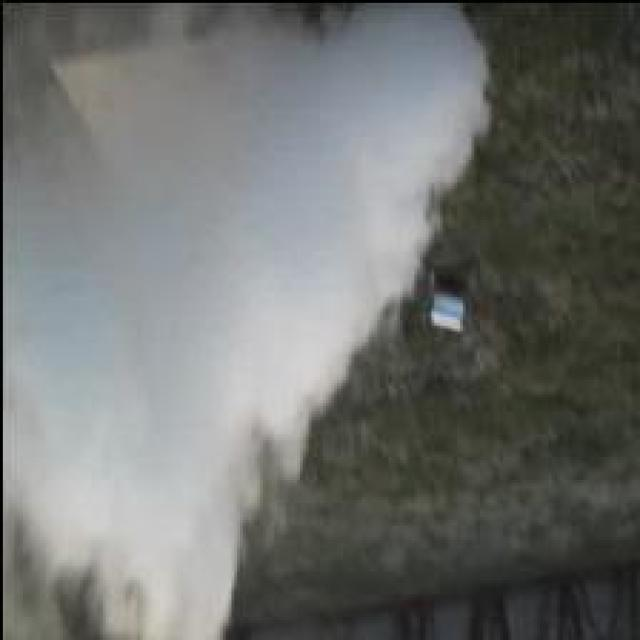Smoke: (2, 0, 488, 640)
